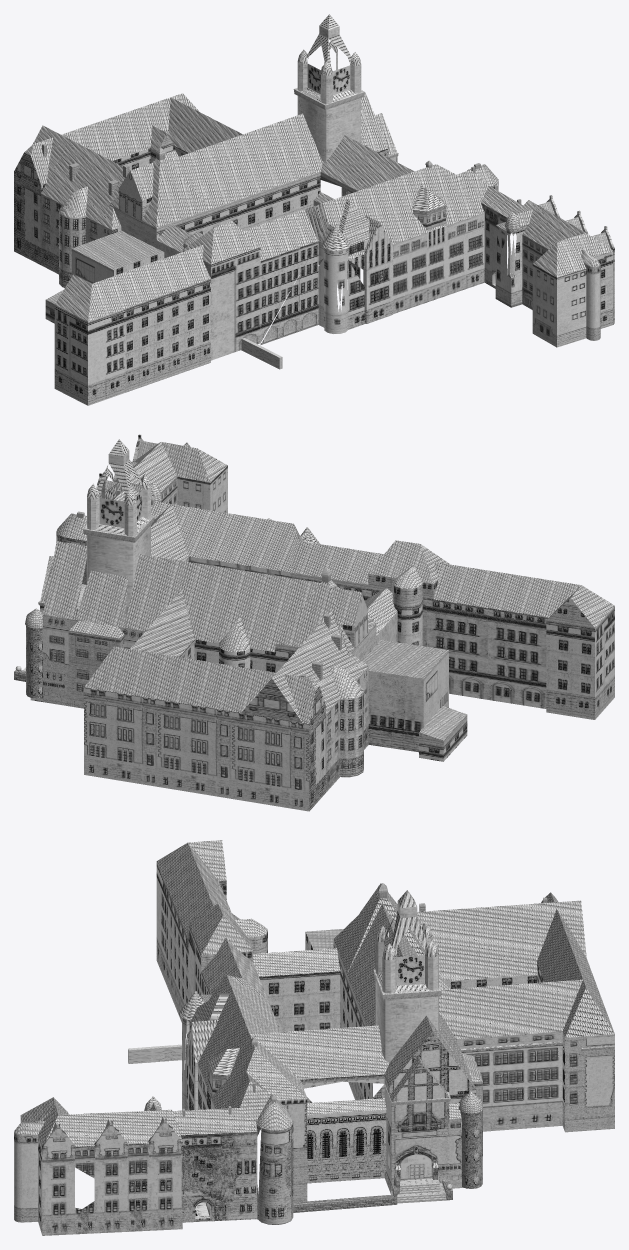
File: 1Georg-Schumann-Bau.gltf
3 views of the same model, one above another, from view 1: azimuth 30°, elevation 25°; view 2: azimuth 150°, elevation 25°; view 3: azimuth 270°, elevation 25° (orthographic). The views are drawn at different scales.
Visible parts, largest first — view 1: Dach.1; view 2: Dach.1; view 3: Dach.1.
Part boxes in pixels (x1,y1,x2,y2): Dach.1: (14, 14, 614, 405); Dach.1: (14, 434, 614, 811); Dach.1: (14, 840, 614, 1235).
Size of the model in its own units: 126 by 56.88 by 114.
50 materials, 50 textured.
